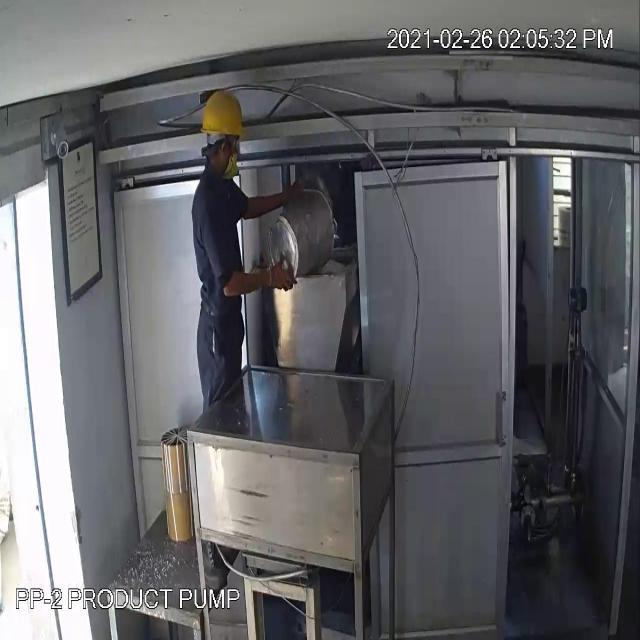hat: (197, 79, 253, 157)
